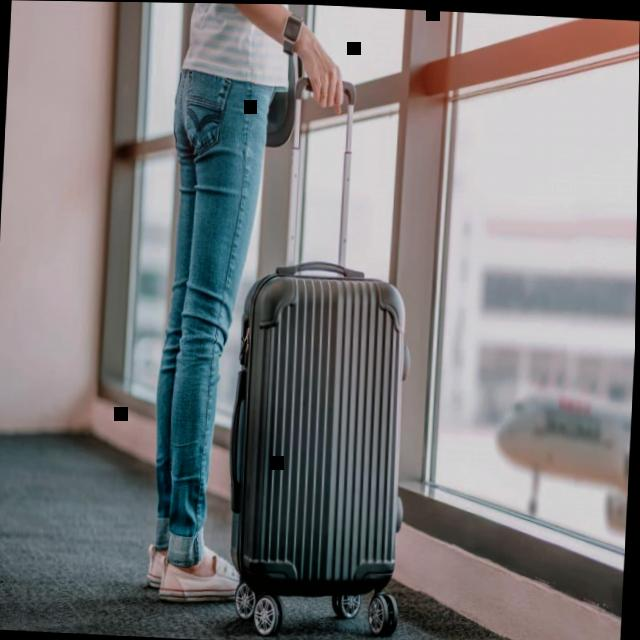luggage: (225, 255, 414, 605)
